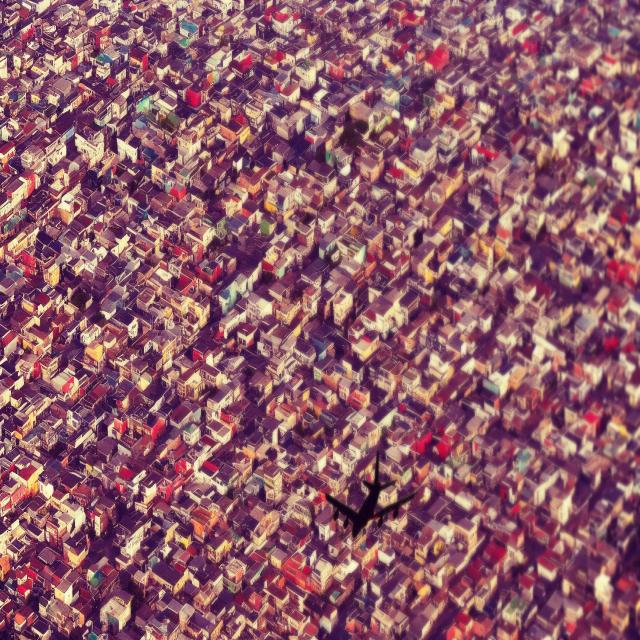airplane: (324, 450, 428, 538)
